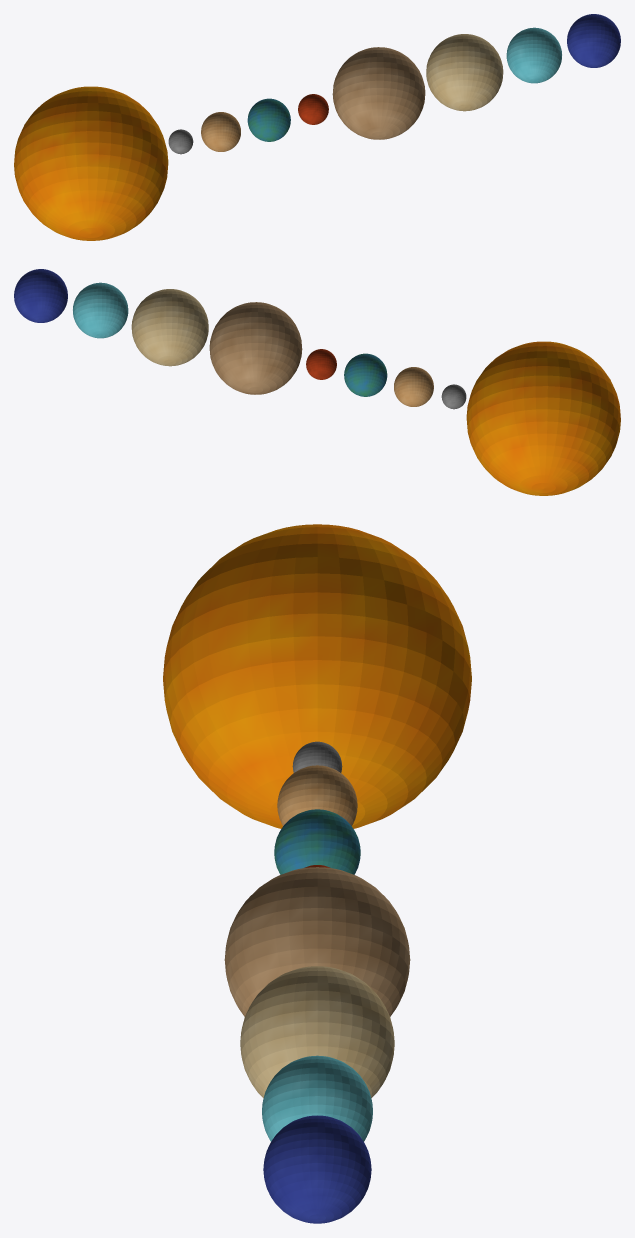
The model's file is solar.glb.
The picture shows the model from 3 angles, top to bottom: view 1: azimuth 30°, elevation 25°; view 2: azimuth 150°, elevation 25°; view 3: azimuth 270°, elevation 25°; orthographic projection. The views are drawn at different scales.
Size of the model in its own units: 8.86 by 2 by 2.
